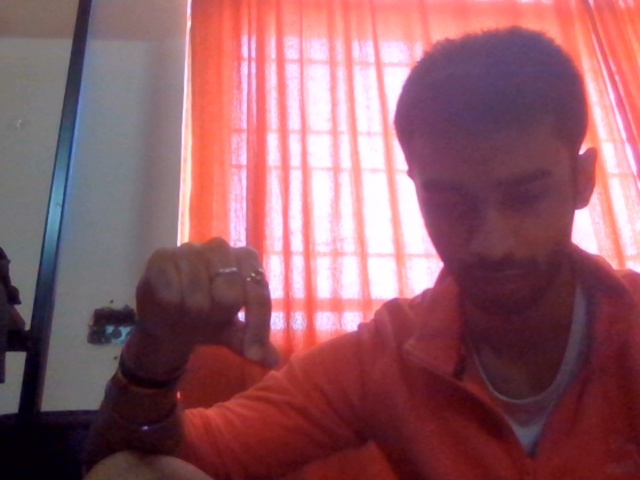Q: (117, 220, 317, 409)
